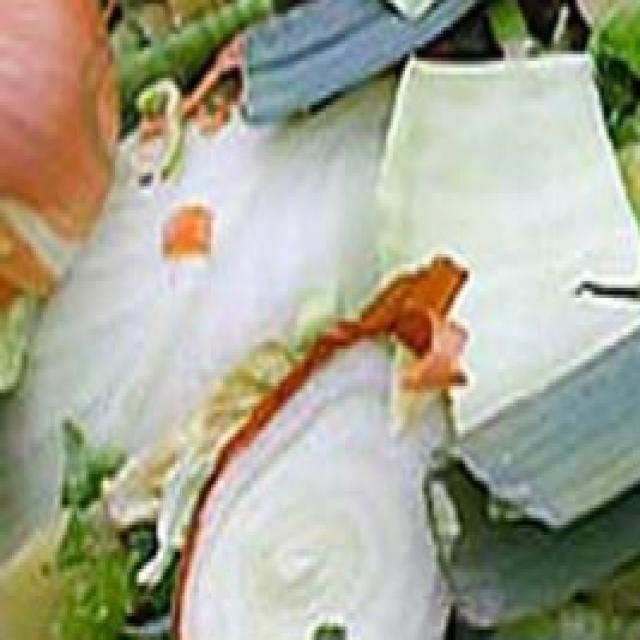food waste: (12, 0, 640, 622)
